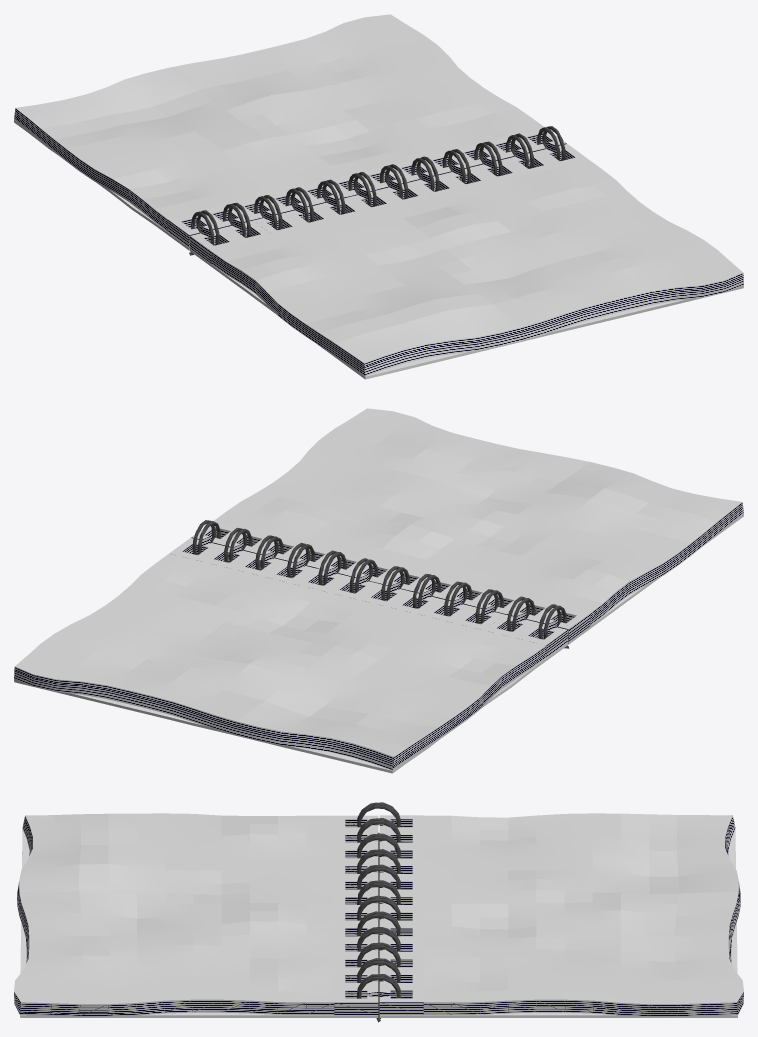
Rendered from JasintoFLAT.fbx.
The picture shows the model from 3 angles, top to bottom: view 1: azimuth 30°, elevation 25°; view 2: azimuth 150°, elevation 25°; view 3: azimuth 270°, elevation 25°; orthographic projection.
Visible parts, largest first — view 1: Cover Top.039; view 2: Cover Top.039; view 3: Cover Top.039.
Part boxes in pixels (box(x1,y1,x2,y2)): Cover Top.039: box(14, 14, 743, 379); Cover Top.039: box(14, 408, 743, 773); Cover Top.039: box(14, 802, 743, 1022).
Bounding box in the file's own units: 290 × 30.62 × 470.
Materials: 4 (2 with a texture image).
